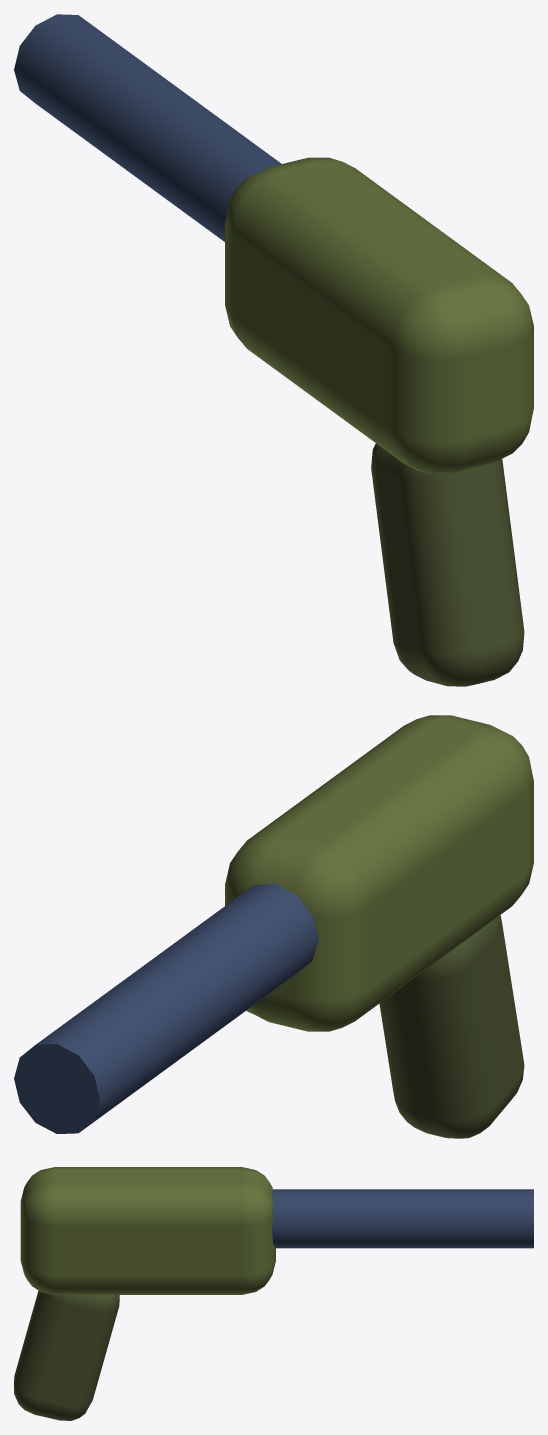
The model's file is placeholder_mp7.glb.
The picture shows the model from 3 angles, top to bottom: view 1: azimuth 30°, elevation 25°; view 2: azimuth 150°, elevation 25°; view 3: azimuth 270°, elevation 25°; orthographic projection. The views are drawn at different scales.
Visible parts, largest first — view 1: body, placeholder_mp7; view 2: body, placeholder_mp7; view 3: body, placeholder_mp7.
Boxes of the visible parts, <box> form: body: <box>225,157,533,474</box>; placeholder_mp7: <box>14,14,524,686</box>; body: <box>225,715,533,1031</box>; placeholder_mp7: <box>14,883,524,1138</box>; body: <box>20,1167,275,1294</box>; placeholder_mp7: <box>14,1189,533,1420</box>.
Size of the model in its own units: 0.07 by 0.1958 by 0.3851.
